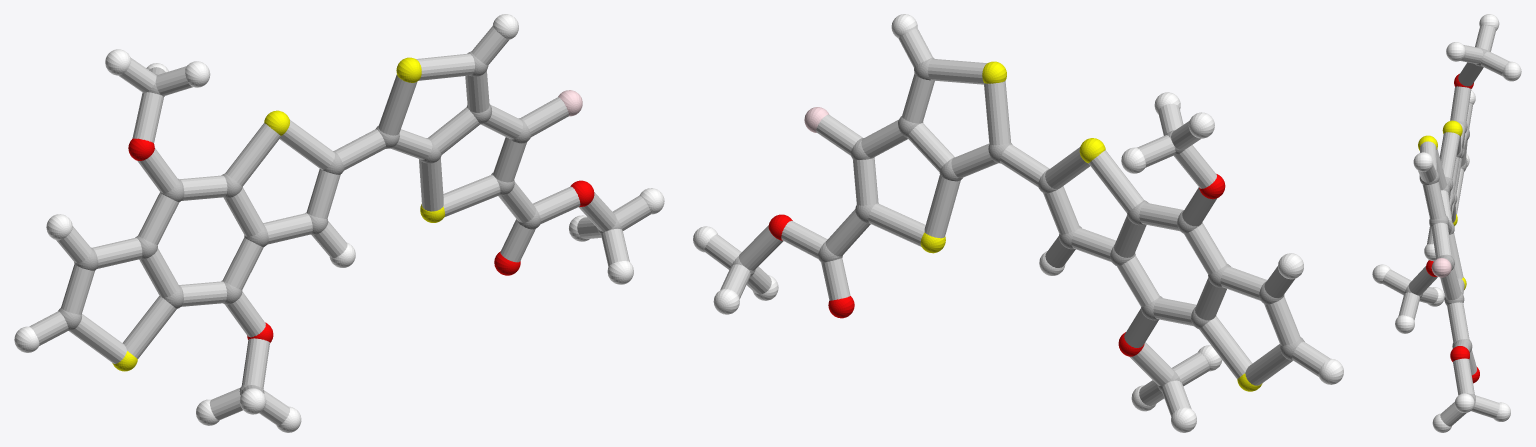
The model's file is color.glb.
The picture shows the model from 3 angles, left to right: view 1: azimuth 30°, elevation 25°; view 2: azimuth 150°, elevation 25°; view 3: azimuth 270°, elevation 25°; orthographic projection. The views are drawn at different scales.
Visible parts, largest first — view 1: grp15205, grp8689, grp1, grp7241, grp13395; view 2: grp15205, grp8689, grp1, grp7241, grp13395; view 3: grp15205, grp8689, grp1, grp13395, grp7241, grp14843.
Part boxes in pixels (x1,y1,x2,y2): grp15205: (29, 26, 650, 425); grp8689: (14, 14, 664, 432); grp1: (58, 51, 621, 394); grp7241: (112, 57, 445, 371); grp13395: (128, 138, 594, 342); grp15205: (704, 28, 1329, 416); grp8689: (693, 14, 1343, 432); grp1: (731, 57, 1304, 391); grp7241: (920, 61, 1262, 391); grp13395: (768, 174, 1225, 356); grp15205: (1382, 25, 1509, 426); grp8689: (1372, 14, 1521, 432); grp1: (1404, 48, 1488, 401); grp13395: (1426, 73, 1479, 383); grp7241: (1418, 120, 1466, 289); grp14843: (1431, 258, 1451, 277).
Bounding box in the file's own units: 16.98 × 9.19 × 4.49.
